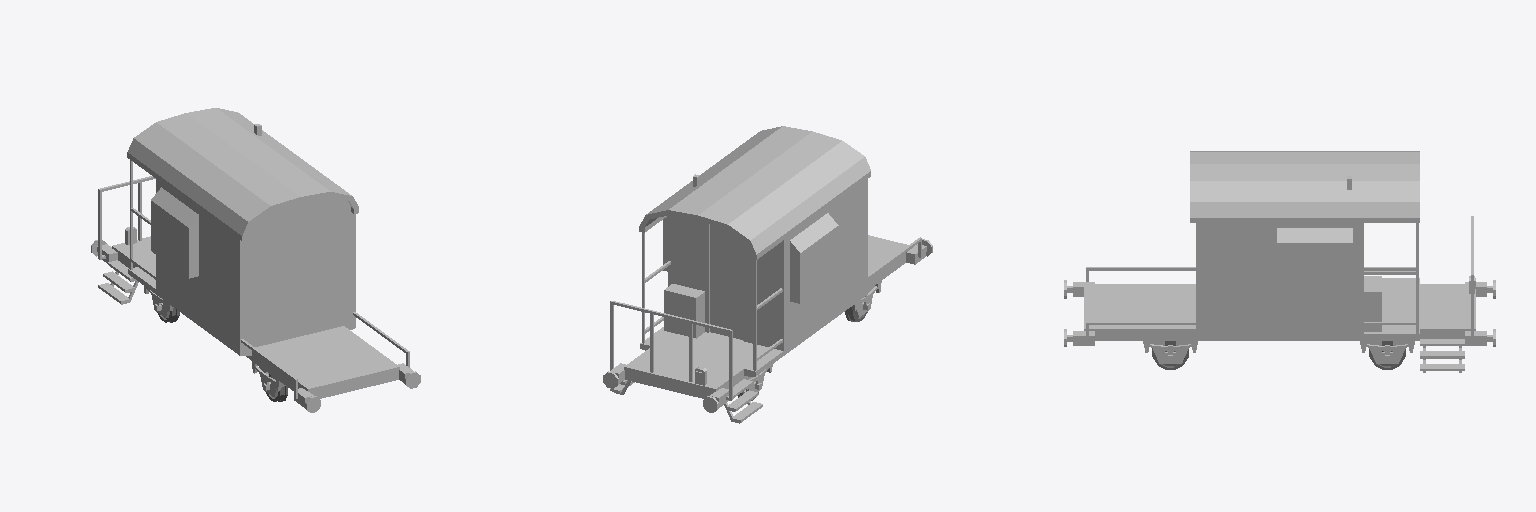
The model's file is dlxtrains_support_wagons_escort_type1.obj.
3 renders of one model, left to right at view 1: azimuth 30°, elevation 25°; view 2: azimuth 150°, elevation 25°; view 3: azimuth 270°, elevation 25°, orthographic.
Visible parts, largest first — view 1: node0_Body, end_wall_with_window, side_wall, floor, window_glass_main, bay_window, end_beam_minimal_type_3, window_glass_bay, step, main_beam, cargo_rail, buffer_pad; view 2: node0_Body, side_wall, floor, end_wall_with_doorway, door, bay_window, propane_cabinet, end_beam_minimal_type_3, window_glass_bay, end_hand_rail_pole, step, awning_pole (+2 smaller); view 3: node0_Body, side_wall, floor, bay_window, window_glass_bay, main_beam, window_glass_main, wheel_set_mount, step, propane_cabinet, cargo_rail, buffer_socket (+1 smaller).
Part boxes in pixels (x1,y1,x2,y2): node0_Body: (127, 108, 358, 241); end_wall_with_window: (245, 197, 350, 351); side_wall: (156, 179, 355, 354); floor: (112, 236, 399, 391); window_glass_main: (211, 239, 313, 291); bay_window: (151, 187, 198, 278); end_beam_minimal_type_3: (103, 248, 407, 403); window_glass_bay: (154, 208, 185, 270); step: (98, 260, 135, 303); main_beam: (118, 253, 301, 390); cargo_rail: (241, 312, 409, 381); buffer_pad: (91, 240, 420, 412); node0_Body: (639, 126, 870, 259); side_wall: (668, 179, 867, 354); floor: (624, 235, 911, 391); end_wall_with_doorway: (673, 216, 778, 349); door: (710, 224, 742, 339); bay_window: (663, 213, 838, 303); propane_cabinet: (664, 284, 704, 338); end_beam_minimal_type_3: (616, 248, 920, 403); window_glass_bay: (803, 233, 835, 296); end_hand_rail_pole: (610, 304, 732, 397); step: (610, 379, 762, 422); awning_pole: (642, 232, 756, 370); node0_Body: (1190, 151, 1419, 222); side_wall: (1196, 223, 1363, 338); floor: (1084, 278, 1475, 336); bay_window: (1277, 228, 1352, 293); window_glass_bay: (1282, 249, 1346, 288); main_beam: (1095, 331, 1464, 340); window_glass_main: (1218, 243, 1253, 283); wheel_set_mount: (1143, 341, 1414, 363); step: (1420, 339, 1464, 370); propane_cabinet: (1364, 276, 1381, 331); cargo_rail: (1086, 267, 1195, 324); buffer_socket: (1073, 282, 1486, 345).
Bounding box in the file's own units: 17.75 × 23.73 × 48.12.